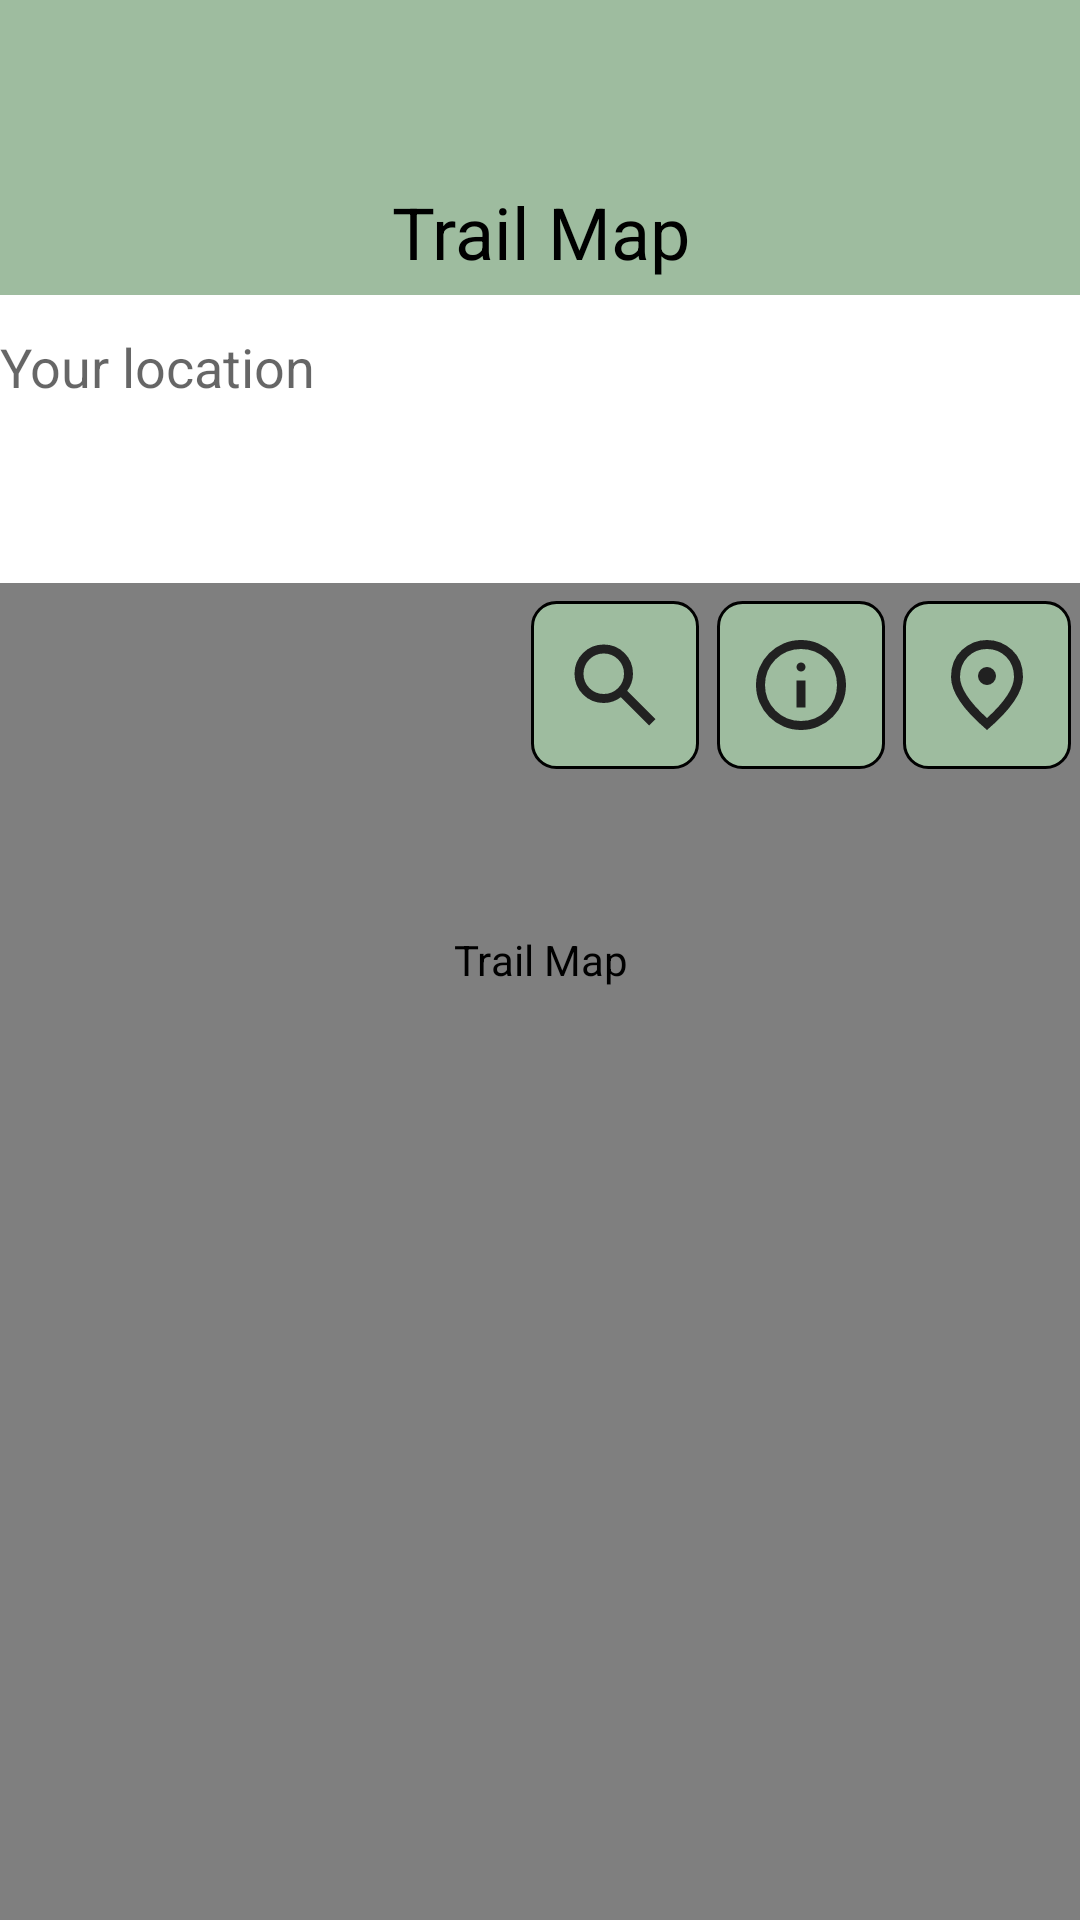

Where to tap for icons on this 1080 × 1920 app screen, as (x=x, y=y):
Current location: (x=987, y=685)
Info: (x=801, y=685)
Search: (x=615, y=685)
